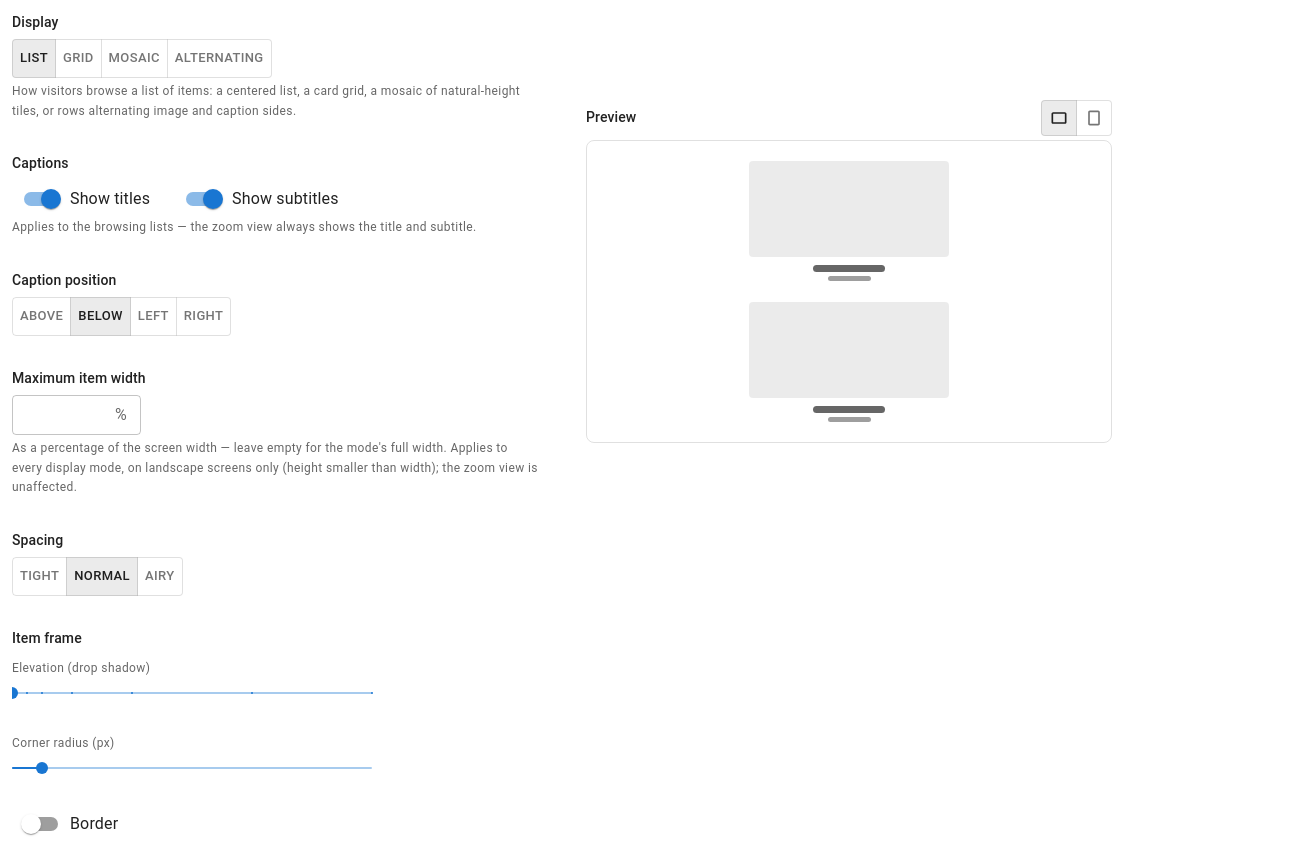
GalleryDesignEditor › hides titles and subtitles independently, hiding the position once nothing shows
The image size is (1292, 850).
Click the checkbox labelled "Show subtitles": (262, 199) [186, 189, 339, 209]
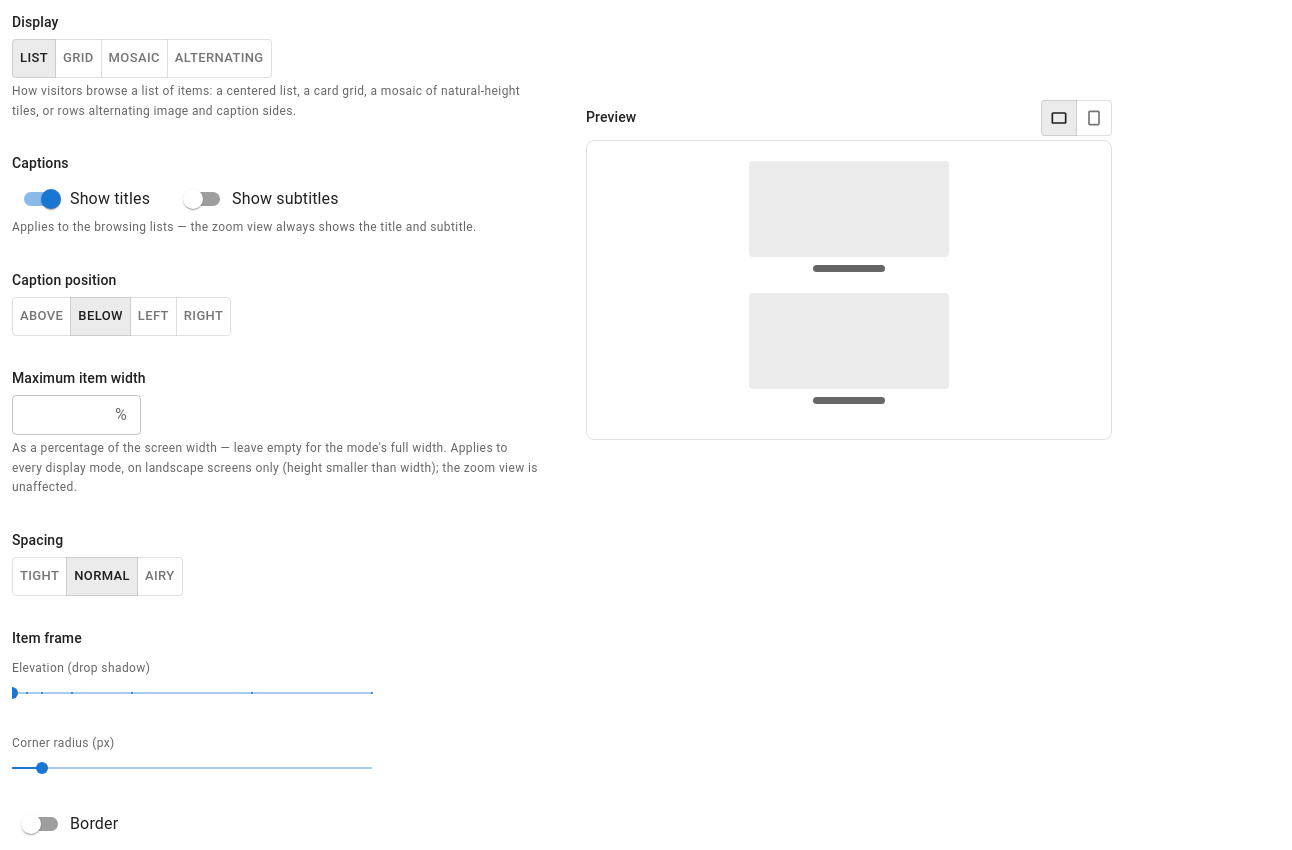
Expected: the button "Above" is shown, [12, 297, 71, 336]
Click the checkbox labelled "Show titles": (87, 199) [24, 189, 150, 209]
Wait 850 ms
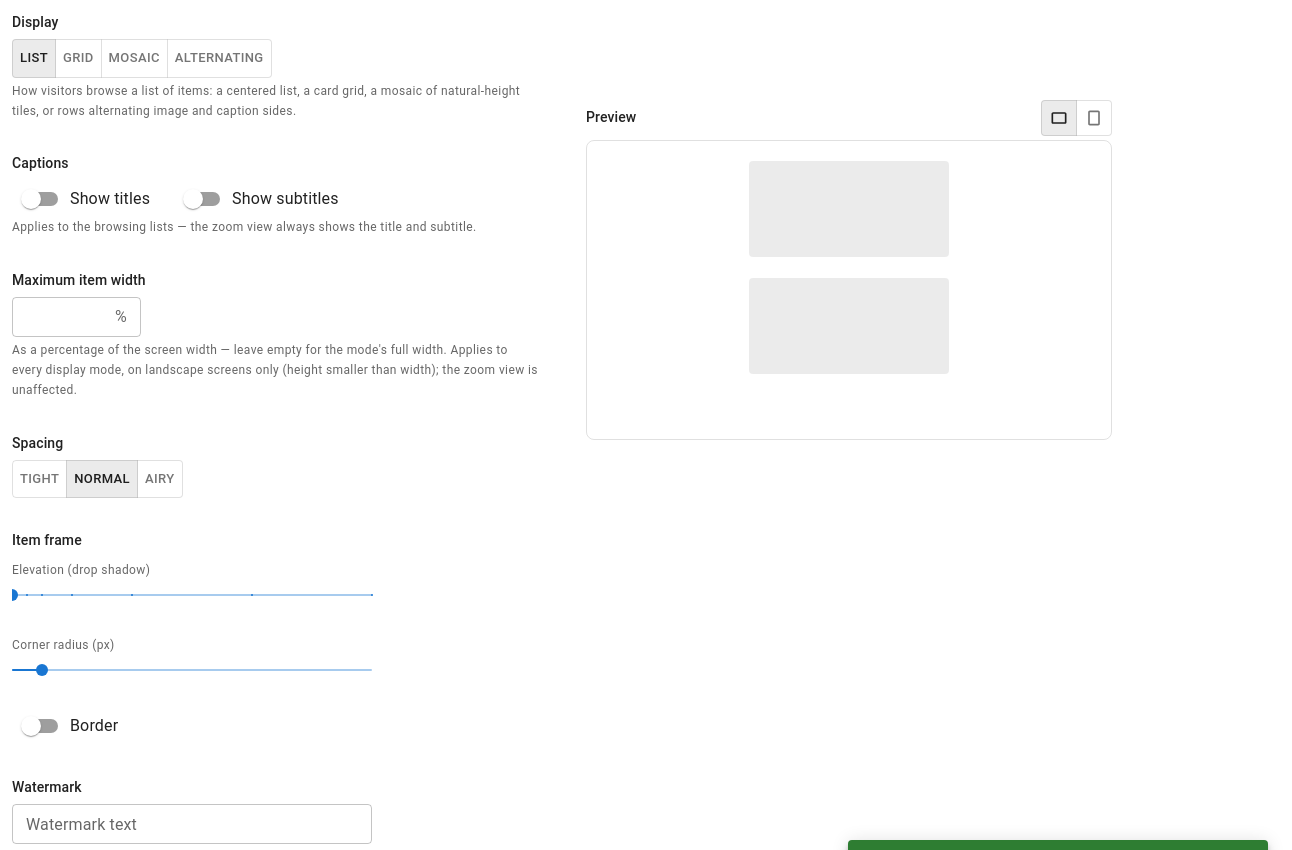
Expected: the button "Above" is gone
